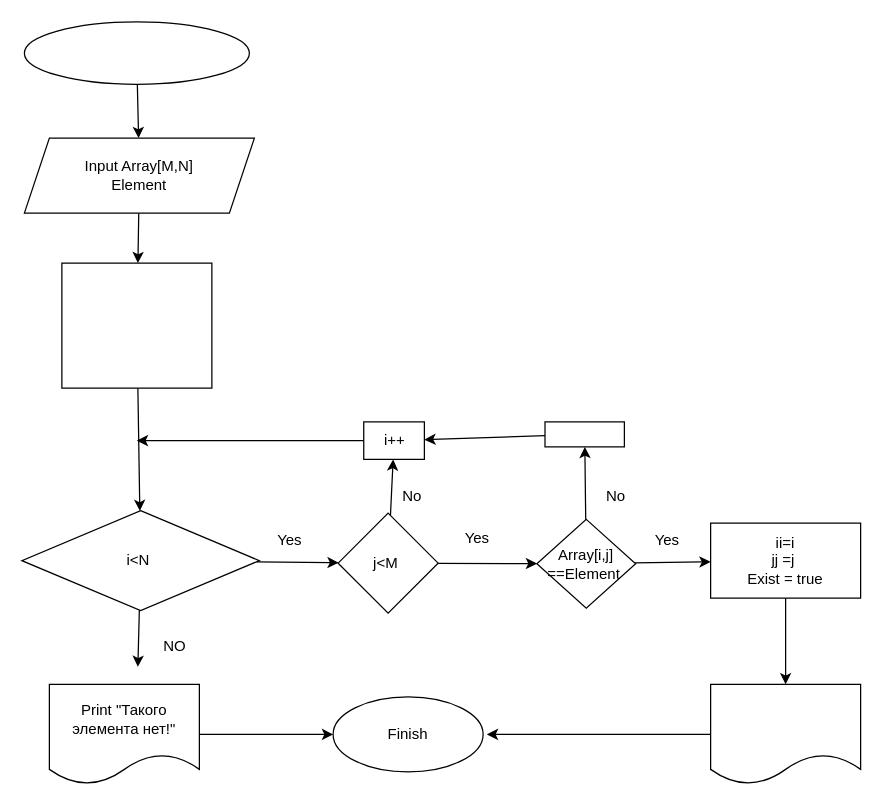
Image size: 883x806. Some labels were removed from this diagram. The shapes that lost their labels are listed below. From the top down, each one's centre as x and y in pixels, then its label:
the point at 136,52: Start
the point at 136,325: ii=-1 jj=-1 i=0 j=0
the point at 584,434: j++
the point at 785,733: Print ii, jj
